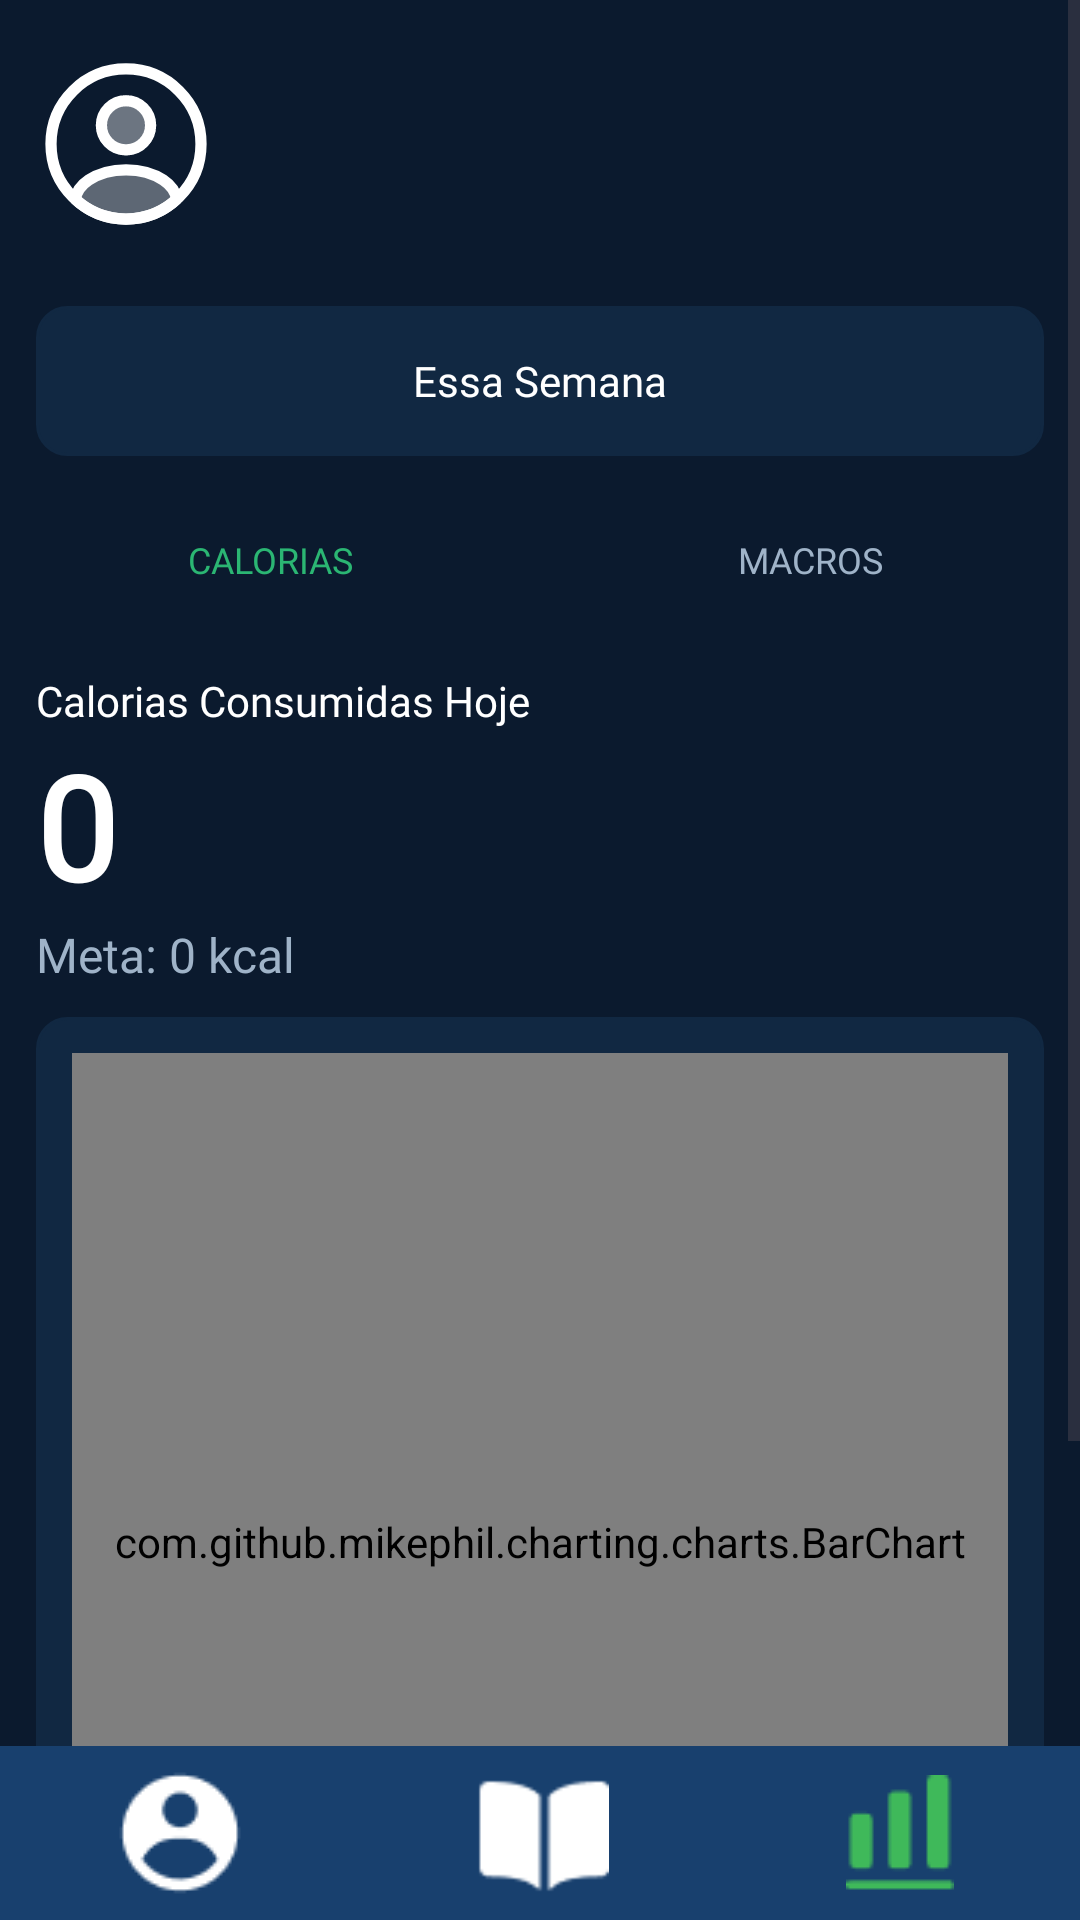

Named icons in this screenshot (1080w x 1920h) and their centers, (x,y):
Calorias: (900,1832)
Diário: (544,1835)
icuser: (180,1833)
profile: (126,144)
